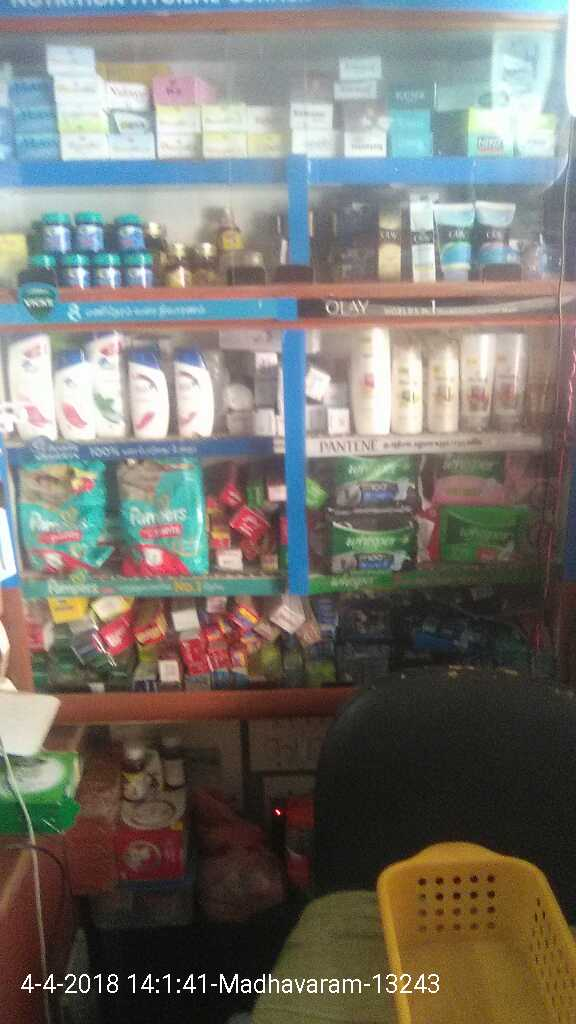vicks: (31, 206, 151, 284)
